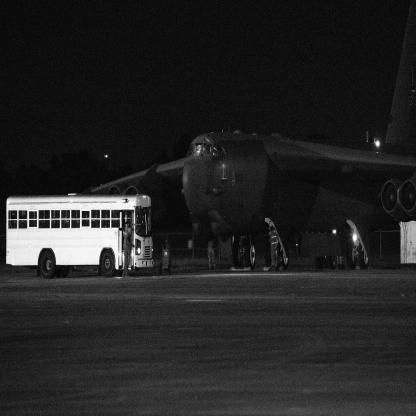B52: (71, 1, 416, 273)
